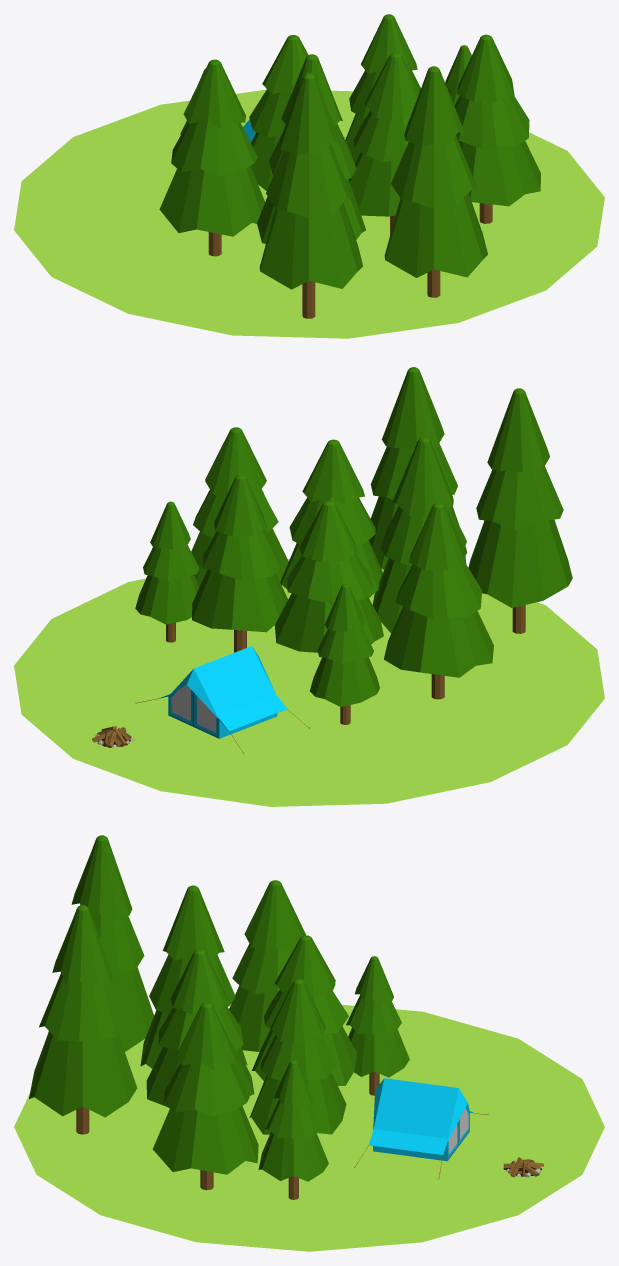
Rendered from camping.glb.
The picture shows the model from 3 angles, top to bottom: view 1: azimuth 30°, elevation 25°; view 2: azimuth 150°, elevation 25°; view 3: azimuth 270°, elevation 25°; orthographic projection.
Visible parts, largest first — view 1: merged; view 2: merged, tentRoof, screendoor; view 3: merged, tentRoof.
Boxes of the visible parts, x1,y1,x2,y2 form: merged: (14, 14, 604, 338); merged: (14, 367, 604, 806); tentRoof: (159, 646, 287, 731); screendoor: (171, 685, 216, 732); merged: (14, 835, 604, 1251); tentRoof: (369, 1078, 474, 1155).
Size of the model in its own units: 7.28 by 3.27 by 7.28.
